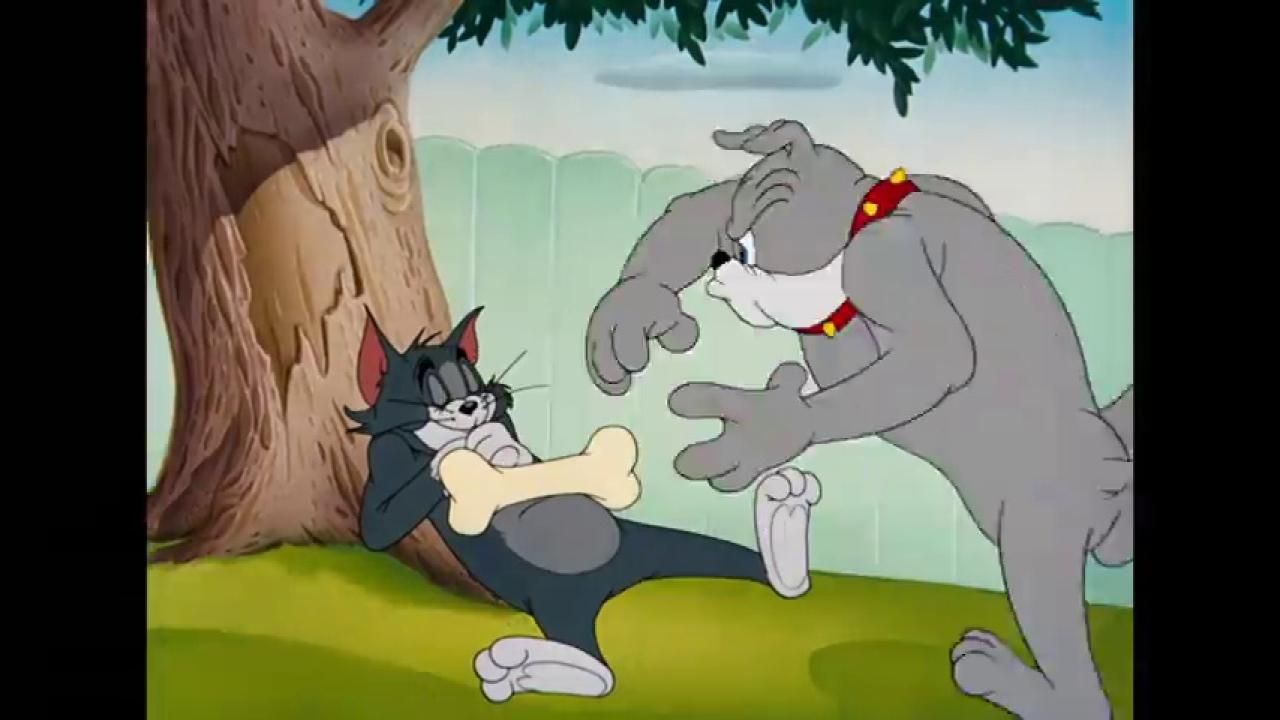Tom: (341, 299, 825, 705)
